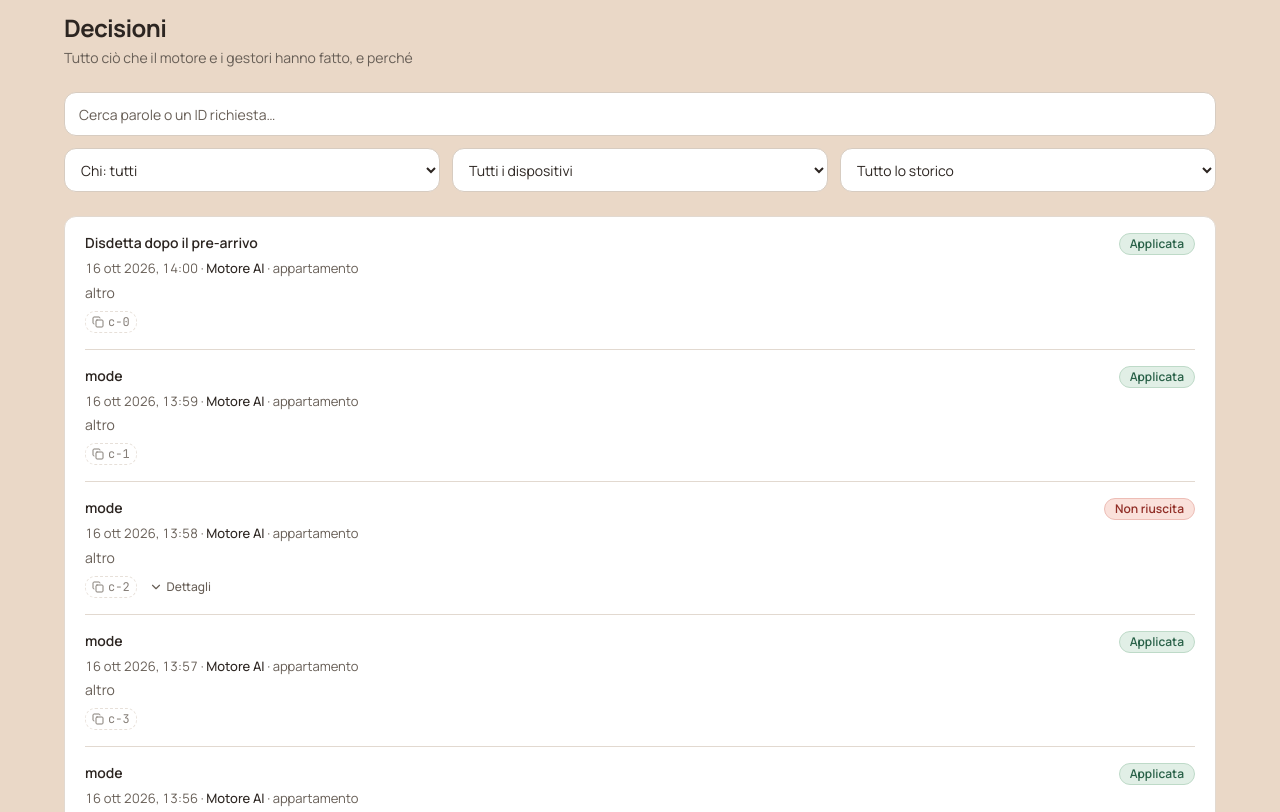
Test: Decisioni: ricerca in tutto lo storico › fine dello storico: «cercato in tutto lo storico disponibile», niente più pulsante
In the search field with test id "decisions-search-input": (640, 114) x1=64 y1=92 x2=1216 y2=136, type "parola-che-non-esiste"
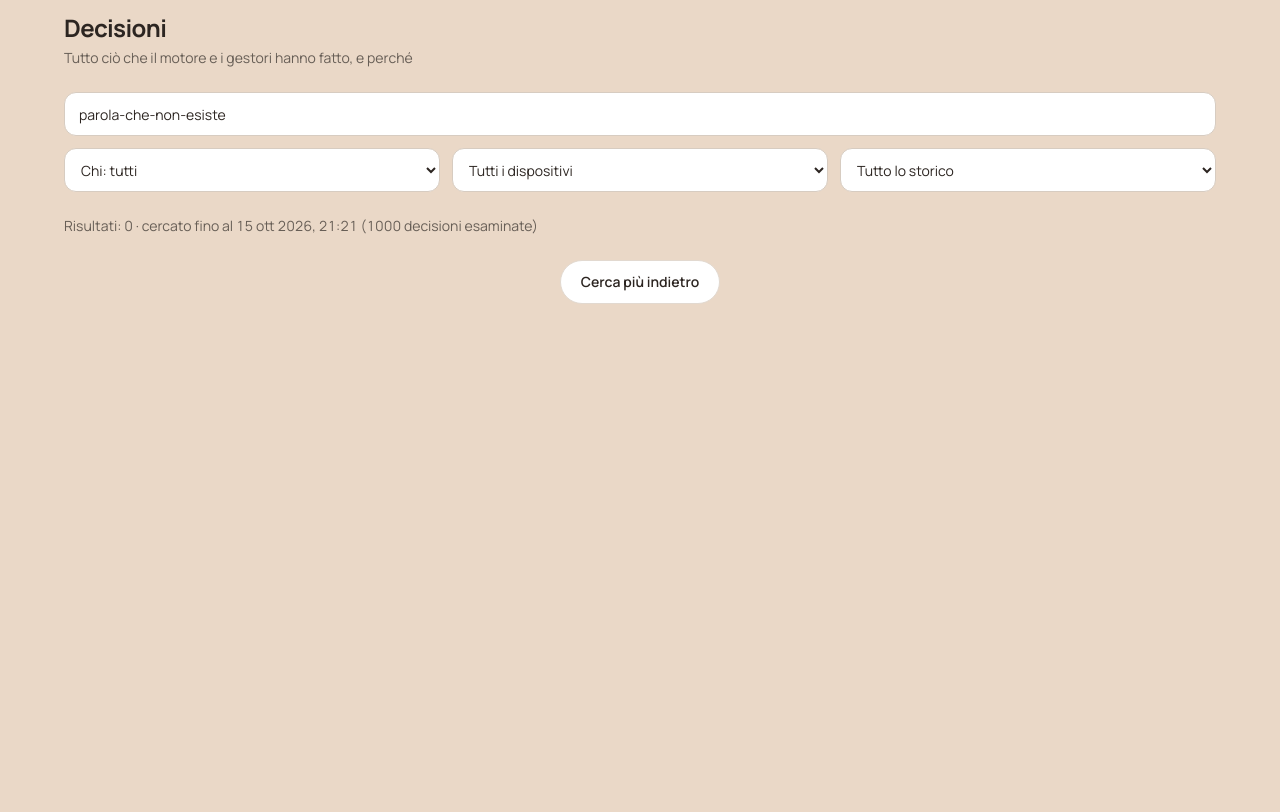
Click the button with test id "decisions-search-more-btn": (640, 282) x1=560 y1=260 x2=720 y2=304
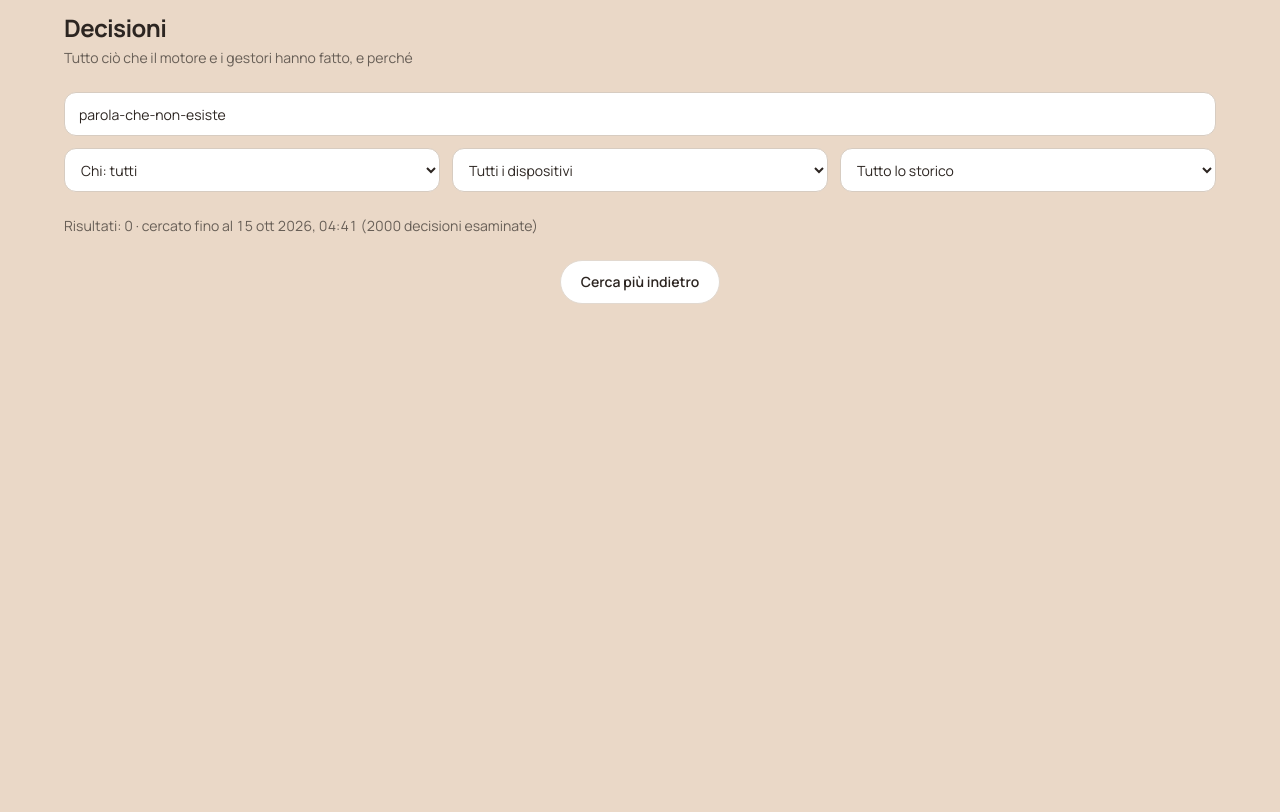
Click the button with test id "decisions-search-more-btn": (640, 282) x1=560 y1=260 x2=720 y2=304
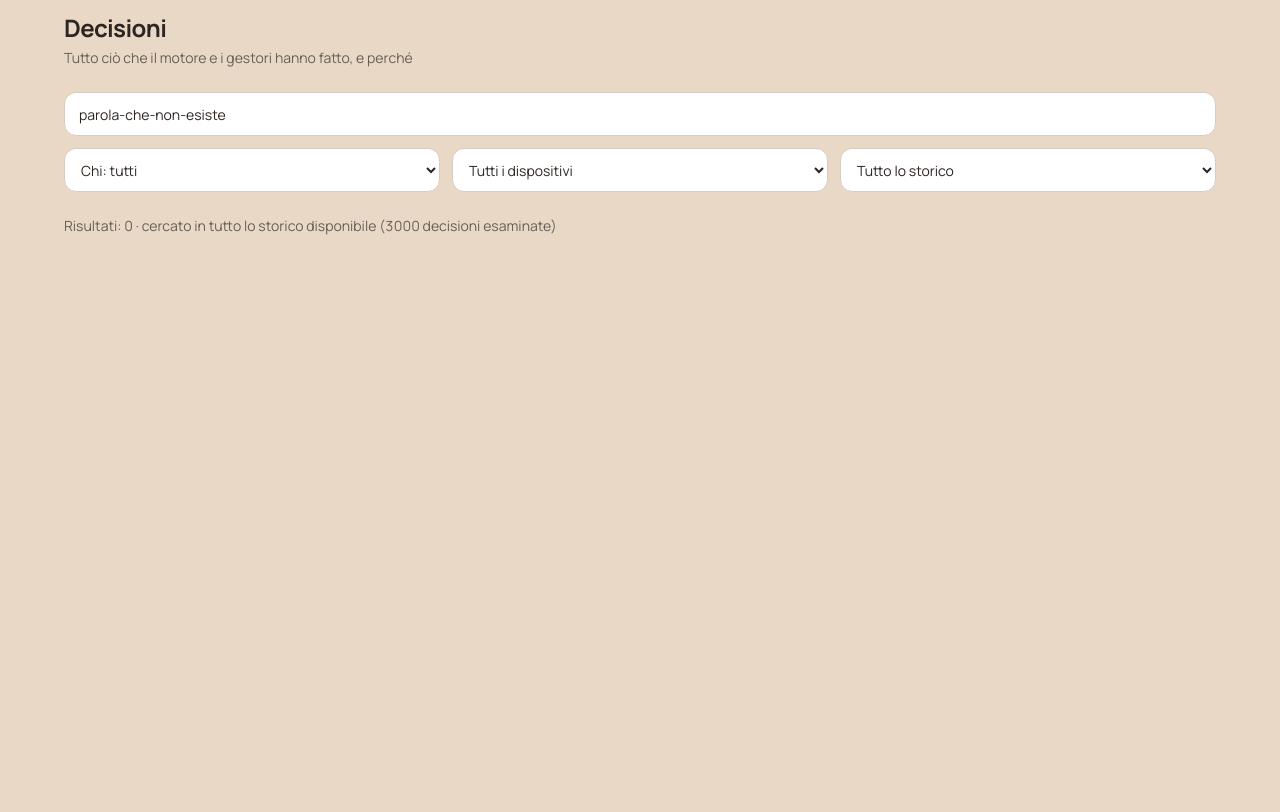
expect the button with test id "decisions-search-more-btn" is gone: met
